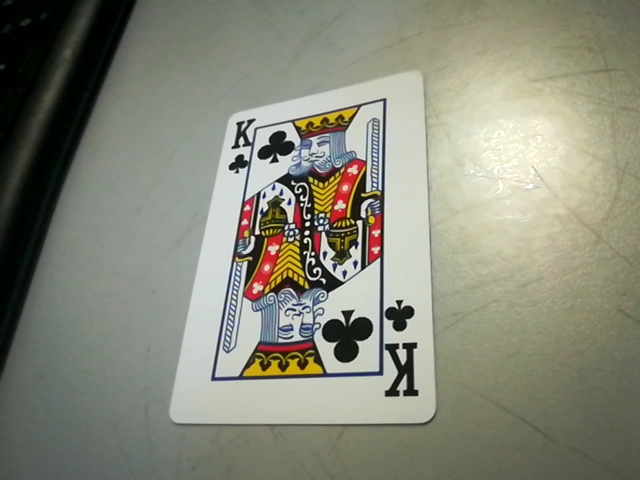mh k: (376, 297, 433, 407), (221, 112, 260, 172)
